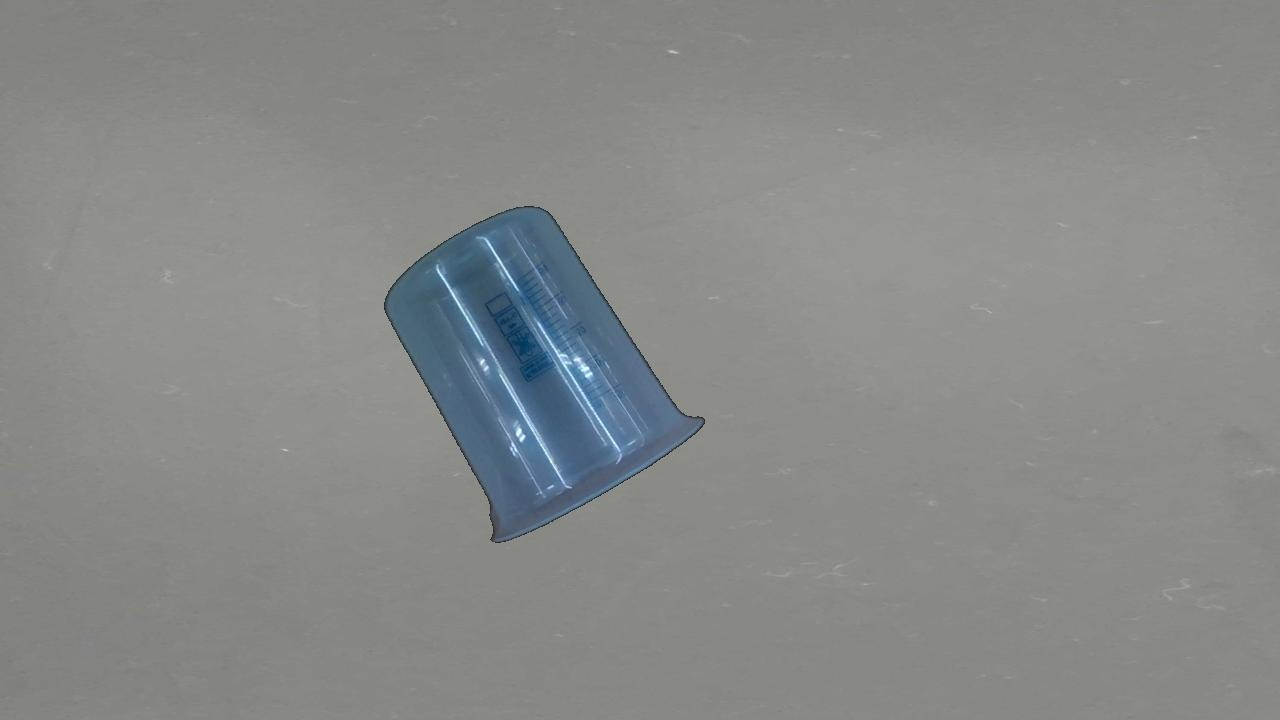cup: (383, 203, 707, 546)
